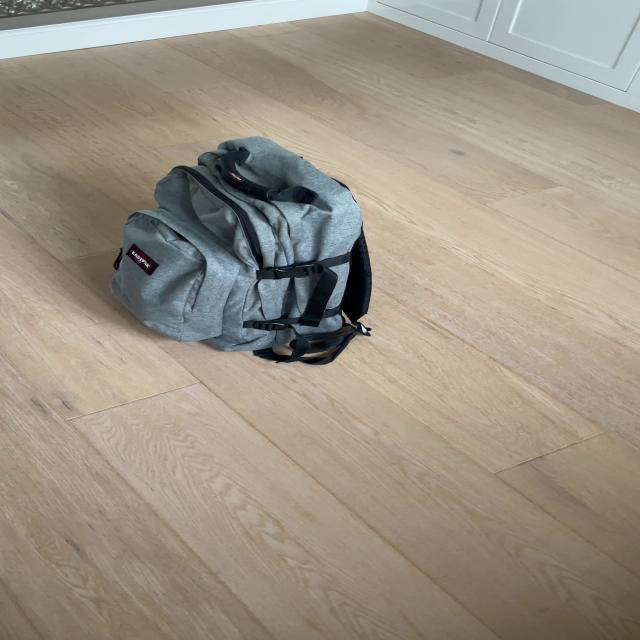backpack: (98, 128, 382, 368)
